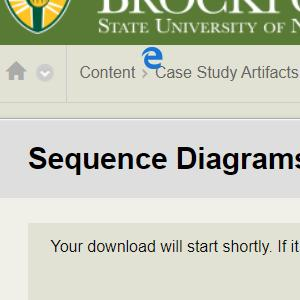edge: (141, 46, 162, 69)
